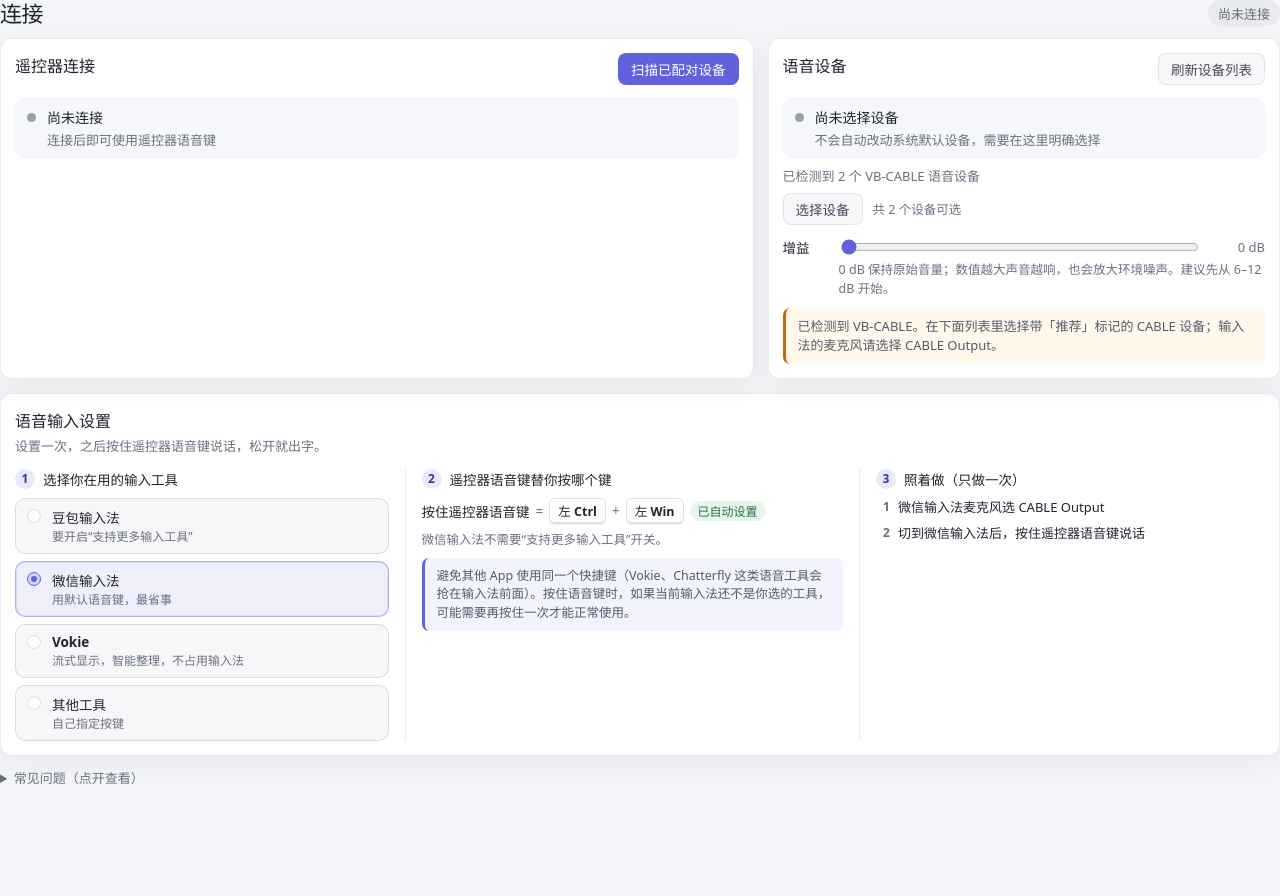
VB-CABLE first-launch guidance › recommends the 16 通道版 VB-CABLE 渲染端点（CABLE In 16 Ch），不推荐不带 CABLE 名的同设备端点
Click the button "选择设备": (823,209) [783,193,863,225]
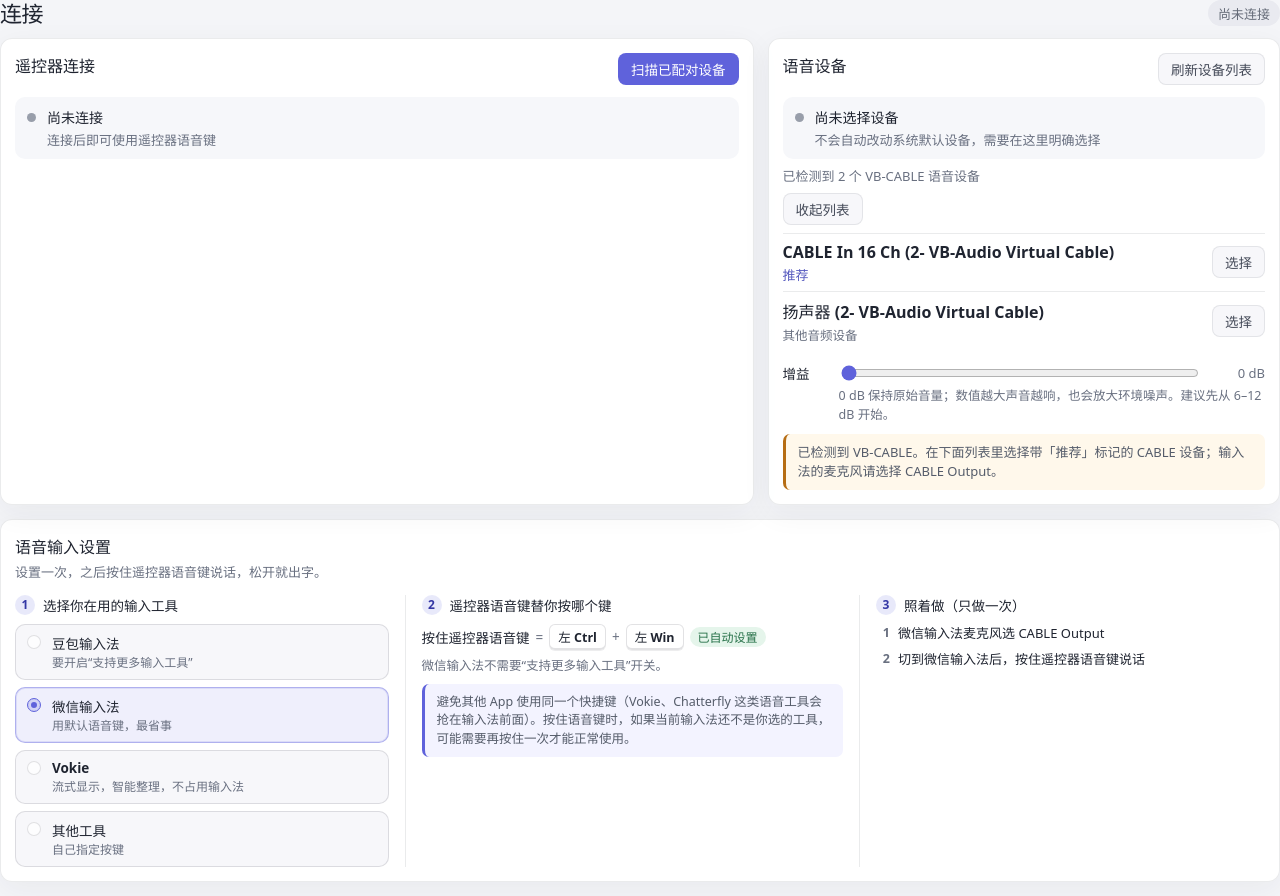
Expected: the text "推荐" is not shown
Now the list item "CABLE In 16 Ch (2- VB-Audio Virtual Cable) 推荐 选择" is shown, box [783,233,1265,291]
